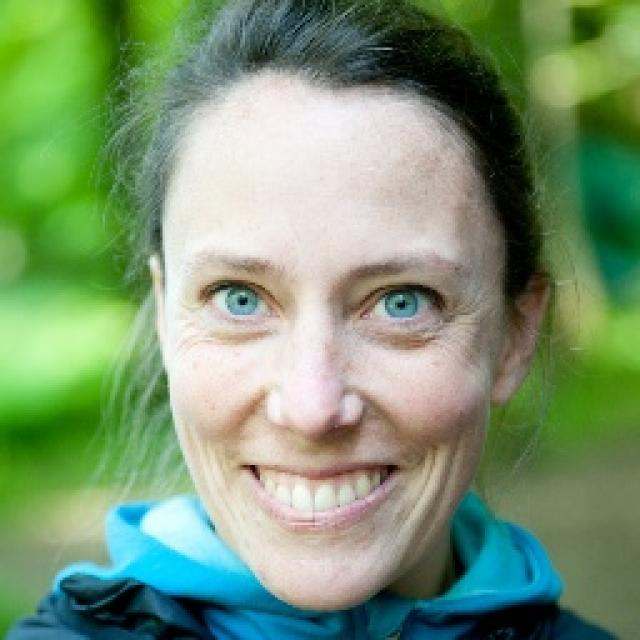earlobe: (489, 272, 548, 408), (148, 253, 172, 373)
